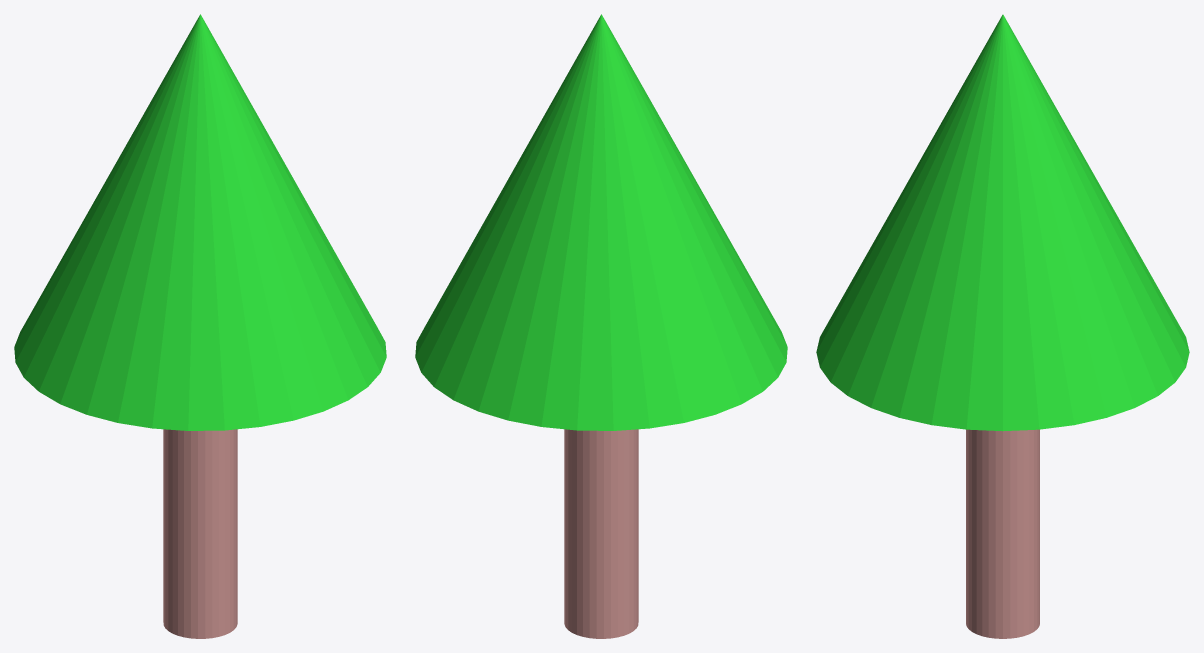
The model's file is tree.fbx.
3 renders of one model, left to right at view 1: azimuth 30°, elevation 25°; view 2: azimuth 150°, elevation 25°; view 3: azimuth 270°, elevation 25°, orthographic.
Visible parts, largest first — view 1: Cone, Cylinder; view 2: Cone, Cylinder; view 3: Cone, Cylinder.
Boxes of the visible parts, x1,y1,x2,y2 form: Cone: (14, 14, 386, 430); Cylinder: (163, 429, 237, 638); Cone: (415, 14, 787, 430); Cylinder: (564, 429, 638, 638); Cone: (816, 14, 1189, 431); Cylinder: (966, 429, 1039, 638).
Bounding box in the file's own units: 448 × 807 × 448.
